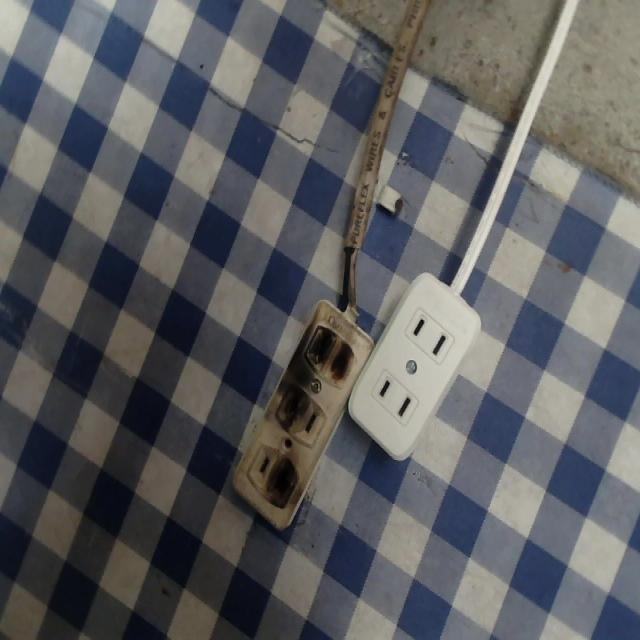-: (304, 320, 354, 391), (266, 454, 305, 514), (270, 381, 308, 439)
